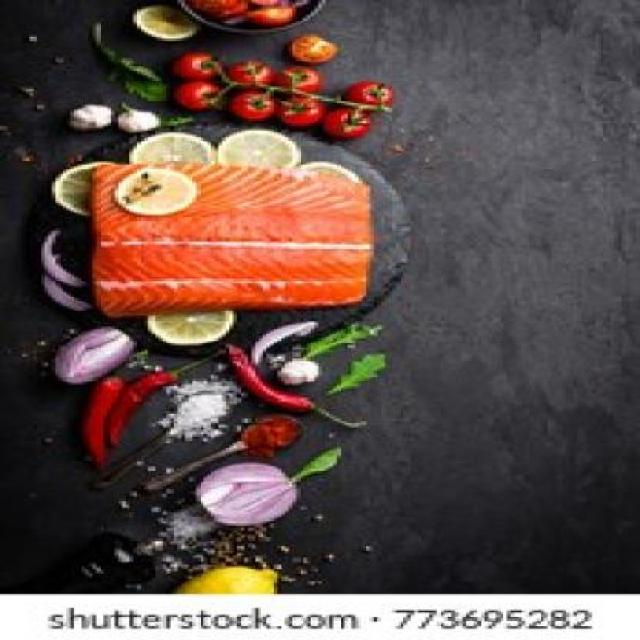salmon: (77, 149, 428, 321)
